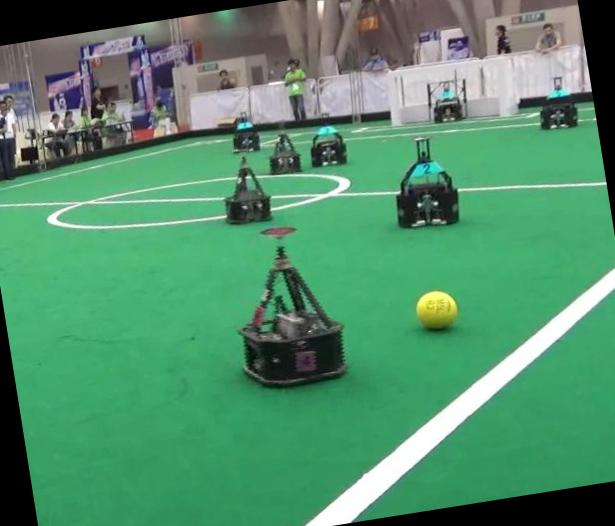ball: (415, 290, 457, 329)
goal: (491, 57, 508, 116), (387, 70, 402, 125)
robot: (239, 246, 345, 385), (396, 137, 458, 226), (225, 157, 271, 223), (539, 82, 577, 129), (427, 79, 465, 122), (310, 125, 346, 166), (269, 133, 299, 173), (234, 115, 260, 151)
